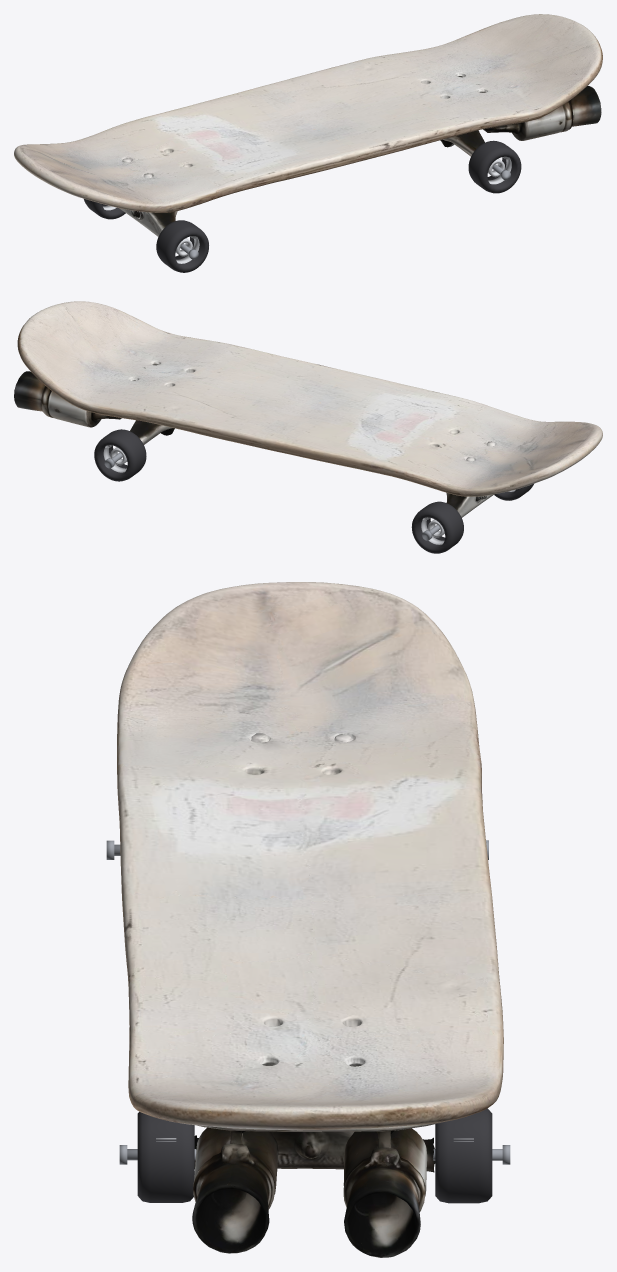
File: skateboard.glb
The picture shows the model from 3 angles, top to bottom: view 1: azimuth 30°, elevation 25°; view 2: azimuth 150°, elevation 25°; view 3: azimuth 270°, elevation 25°; orthographic projection. The views are drawn at different scales.
Visible parts, largest first — view 1: tripo_part_0, tripo_part_4, wheel_FL, wheel_RL, tripo_part_1, tripo_part_2, wheel_FR; view 2: tripo_part_0, tripo_part_3, wheel_RR, wheel_FR, tripo_part_2, tripo_part_1; view 3: tripo_part_0, tripo_part_3, tripo_part_4, wheel_RR, wheel_FL, tripo_part_2.
Part boxes in pixels (left/top/right/bottom): tripo_part_0: left=14, top=14, right=602, bottom=212; tripo_part_4: left=483, top=86, right=601, bottom=140; wheel_FL: left=468, top=140, right=521, bottom=193; wheel_RL: left=156, top=220, right=208, bottom=272; tripo_part_1: left=119, top=208, right=177, bottom=236; tripo_part_2: left=440, top=130, right=484, bottom=156; wheel_FR: left=84, top=199, right=125, bottom=219; tripo_part_0: left=17, top=301, right=602, bottom=496; tripo_part_3: left=14, top=371, right=121, bottom=427; wheel_RR: left=94, top=429, right=146, bottom=481; wheel_FR: left=411, top=501, right=463, bottom=553; tripo_part_2: left=130, top=420, right=174, bottom=444; tripo_part_1: left=446, top=492, right=493, bottom=517; tripo_part_0: left=117, top=582, right=503, bottom=1130; tripo_part_3: left=343, top=1128, right=427, bottom=1257; tripo_part_4: left=192, top=1127, right=278, bottom=1253; wheel_RR: left=435, top=1108, right=492, bottom=1203; wheel_FL: left=137, top=1112, right=194, bottom=1202; tripo_part_2: left=194, top=1122, right=441, bottom=1172.
Bounding box in the file's own units: 1.07 × 0.1945 × 0.3394.
8 materials, 5 textured.
